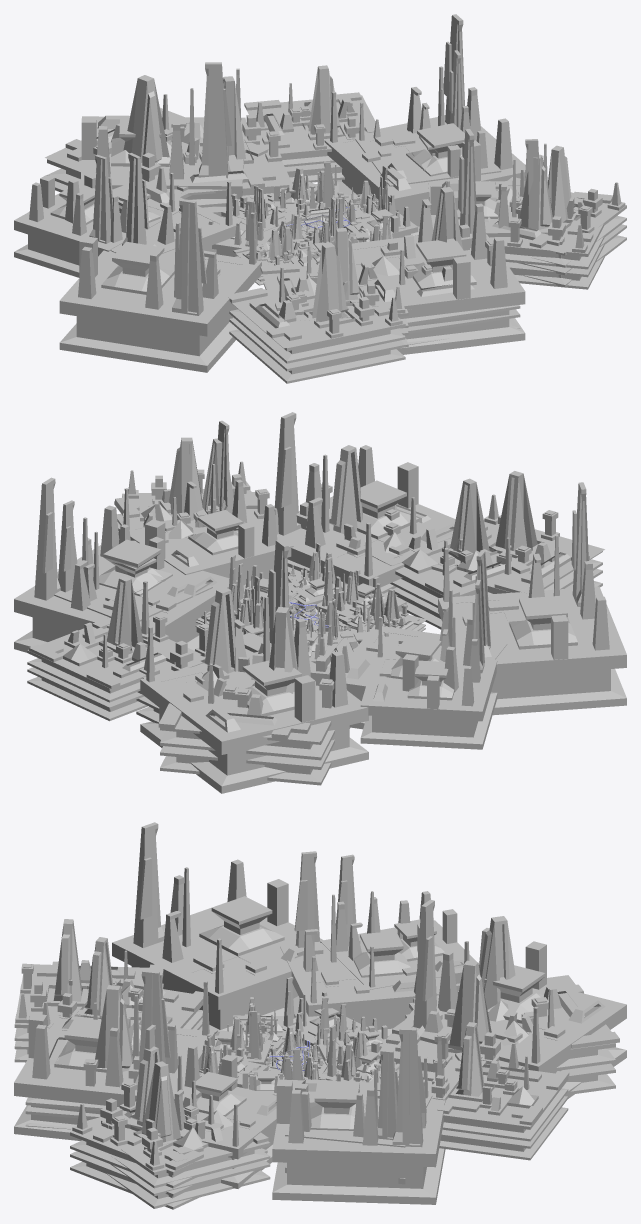
File: Racetrack.obj
The picture shows the model from 3 angles, top to bottom: view 1: azimuth 30°, elevation 25°; view 2: azimuth 150°, elevation 25°; view 3: azimuth 270°, elevation 25°; orthographic projection. The views are drawn at different scales.
Visible parts, largest first — view 1: City_Prefab_B.027, City_Prefab_B.033, City_Prefab_A.044, City_Prefab_B.030, City_Prefab_B.028, City_Prefab_B.026, City_Prefab_A.045, City_Prefab_A.042, City_Prefab_B.032, City_Prefab_A.041, City_Prefab_A.038, City_Prefab_A.043 (+16 smaller); view 2: City_Prefab_B.027, City_Prefab_B.028, City_Prefab_B.030, City_Prefab_B.033, City_Prefab_B.026, City_Prefab_A.045, City_Prefab_A.038, City_Prefab_B.031, City_Prefab_A.039, City_Prefab_A.044, City_Prefab_B.032, City_Prefab_B.029 (+13 smaller); view 3: City_Prefab_B.027, City_Prefab_B.030, City_Prefab_B.033, City_Prefab_B.028, City_Prefab_A.045, City_Prefab_B.032, City_Prefab_A.041, City_Prefab_A.042, City_Prefab_B.031, City_Prefab_A.038, City_Prefab_A.043, City_Prefab_A.044 (+15 smaller).
Part boxes in pixels (x1=…): City_Prefab_B.027: x1=59, y1=199, x2=261, y2=372; City_Prefab_B.033: x1=338, y1=129, x2=525, y2=354; City_Prefab_A.044: x1=226, y1=243, x2=405, y2=383; City_Prefab_B.030: x1=324, y1=14, x2=525, y2=235; City_Prefab_B.028: x1=80, y1=62, x2=245, y2=217; City_Prefab_B.026: x1=14, y1=154, x2=179, y2=277; City_Prefab_A.045: x1=244, y1=65, x2=380, y2=183; City_Prefab_A.042: x1=484, y1=154, x2=612, y2=289; City_Prefab_B.032: x1=65, y1=153, x2=236, y2=253; City_Prefab_A.041: x1=492, y1=145, x2=626, y2=287; City_Prefab_A.038: x1=45, y1=75, x2=268, y2=198; City_Prefab_A.043: x1=155, y1=76, x2=292, y2=216; City_Prefab_B.027: x1=438, y1=482, x2=626, y2=715; City_Prefab_B.028: x1=140, y1=539, x2=368, y2=793; City_Prefab_B.030: x1=14, y1=477, x2=237, y2=652; City_Prefab_B.033: x1=274, y1=412, x2=455, y2=612; City_Prefab_B.026: x1=360, y1=579, x2=497, y2=749; City_Prefab_A.045: x1=27, y1=576, x2=201, y2=721; City_Prefab_A.038: x1=158, y1=607, x2=349, y2=785; City_Prefab_B.031: x1=118, y1=420, x2=293, y2=585; City_Prefab_A.039: x1=372, y1=478, x2=549, y2=629; City_Prefab_A.044: x1=431, y1=471, x2=604, y2=593; City_Prefab_B.032: x1=345, y1=550, x2=507, y2=729; City_Prefab_B.029: x1=54, y1=500, x2=212, y2=621; City_Prefab_B.027: x1=112, y1=822, x2=323, y2=1031; City_Prefab_B.030: x1=272, y1=1027, x2=446, y2=1204; City_Prefab_B.033: x1=14, y1=969, x2=214, y2=1140; City_Prefab_B.028: x1=392, y1=899, x2=626, y2=1098; City_Prefab_A.045: x1=428, y1=1022, x2=569, y2=1160; City_Prefab_B.032: x1=280, y1=851, x2=440, y2=1036; City_Prefab_A.041: x1=87, y1=1061, x2=270, y2=1208; City_Prefab_A.042: x1=70, y1=1046, x2=267, y2=1209; City_Prefab_B.031: x1=125, y1=1024, x2=276, y2=1188; City_Prefab_A.038: x1=405, y1=916, x2=619, y2=1094; City_Prefab_A.043: x1=378, y1=960, x2=533, y2=1084; City_Prefab_A.044: x1=14, y1=919, x2=163, y2=1062.
Size of the model in its own units: 187 by 55.39 by 178.
